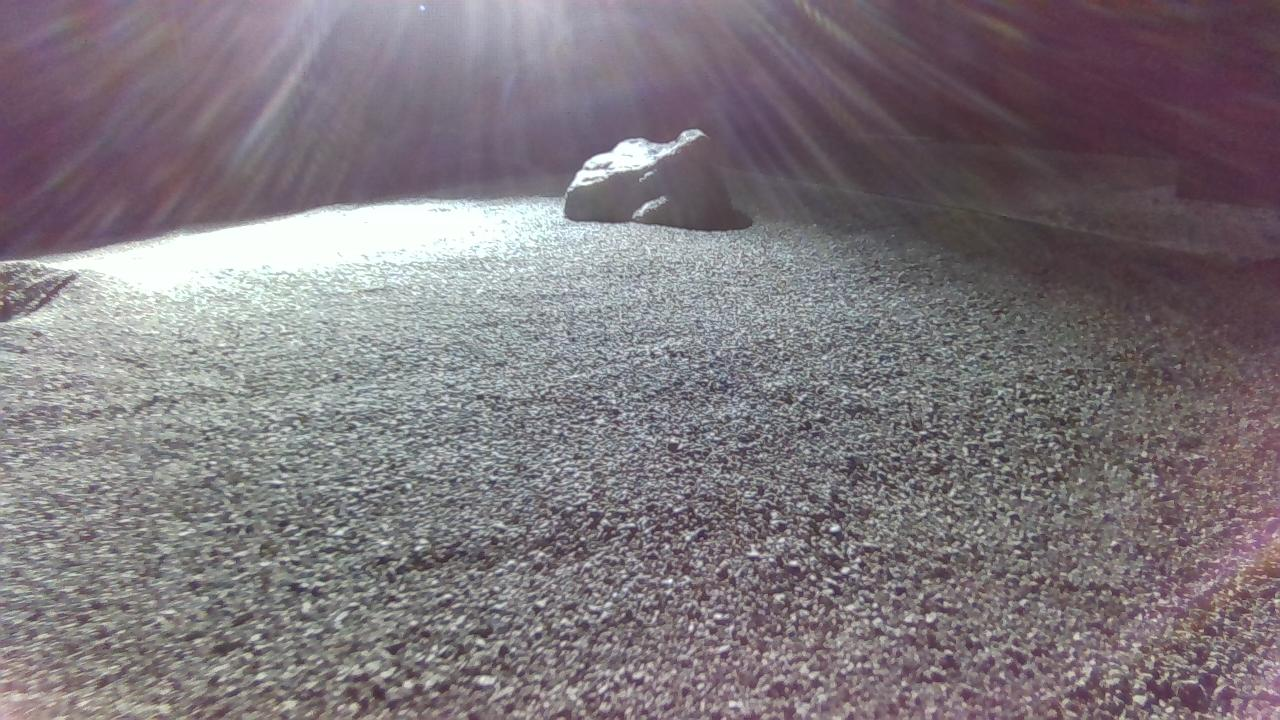rock: (564, 128, 734, 229)
